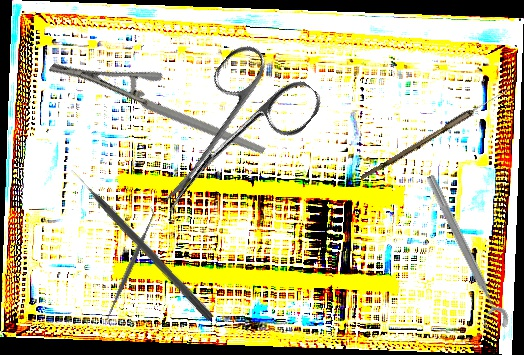Fixation Ring: (412, 171, 513, 337)
Iris Scissors: (127, 33, 327, 244)
Needle Holder: (46, 5, 268, 214)
Pusher: (68, 165, 216, 322)
Spatula Surgical: (99, 205, 162, 326)
Surgical Spoon: (360, 84, 511, 184)
